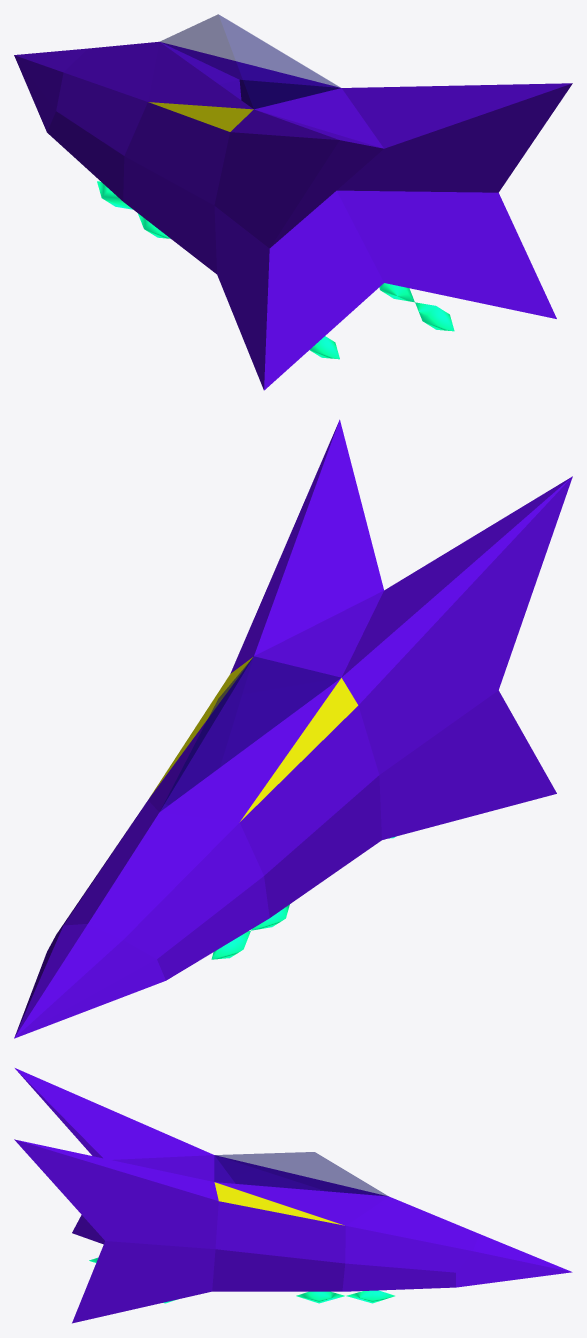
The model's file is engine.glb.
The picture shows the model from 3 angles, top to bottom: view 1: azimuth 30°, elevation 25°; view 2: azimuth 150°, elevation 25°; view 3: azimuth 270°, elevation 25°; orthographic projection. The views are drawn at different scales.
Visible parts, largest first — view 1: train.F.001, levi.F.001; view 2: train.F.001, levi.F.001; view 3: train.F.001, levi.F.001.
Part boxes in pixels (<box>): train.F.001: <box>14,14,572,390</box>; levi.F.001: <box>97,181,454,359</box>; train.F.001: <box>14,419,572,1038</box>; levi.F.001: <box>211,836,395,959</box>; train.F.001: <box>14,1068,572,1323</box>; levi.F.001: <box>89,1257,394,1303</box>.
Size of the model in its own units: 6.4 by 6.03 by 16.73.
